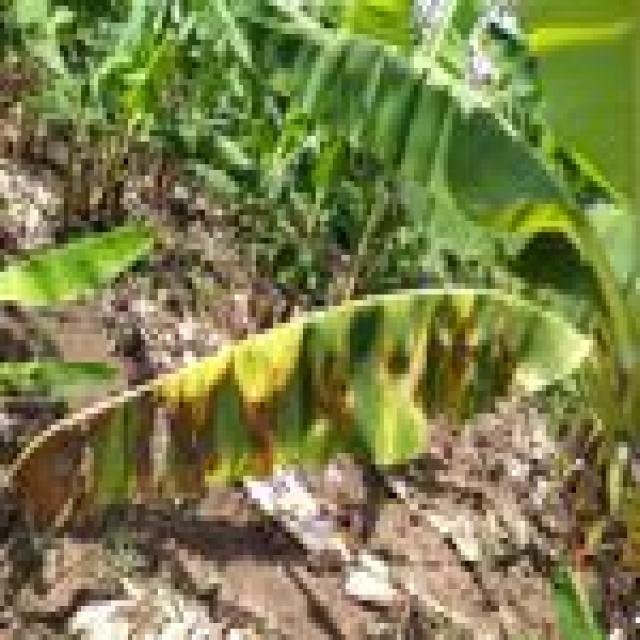Early_rust: (4, 275, 557, 580)
